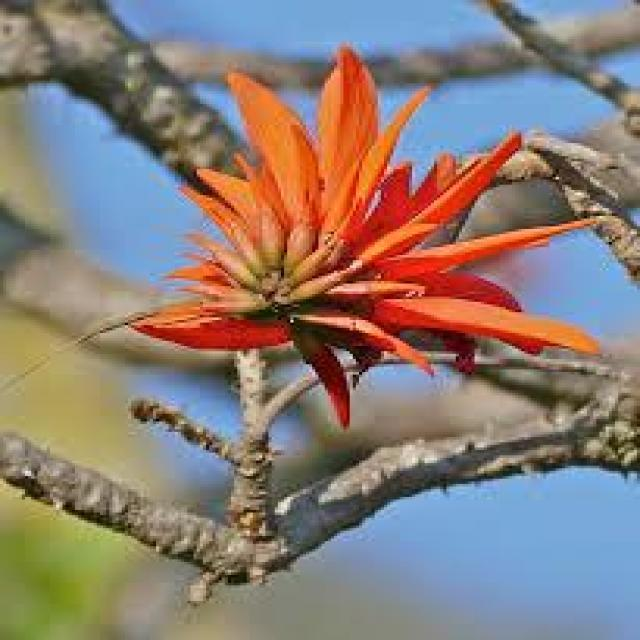organic waste: (118, 51, 602, 378)
